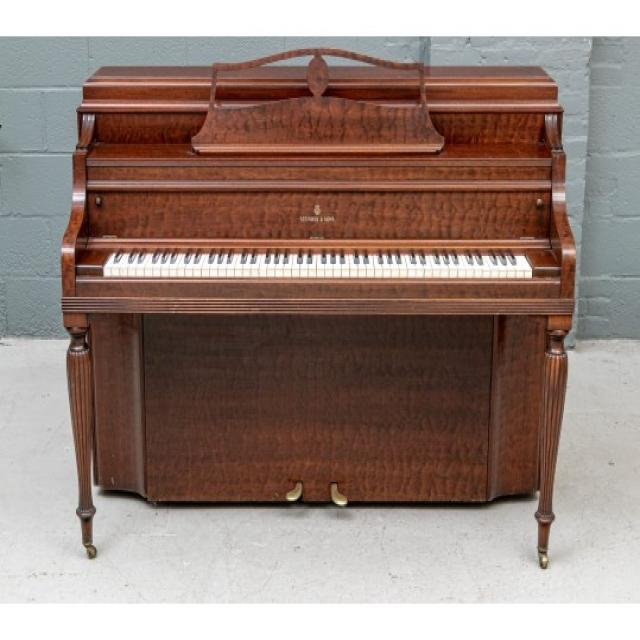Woods: (61, 52, 577, 564)
